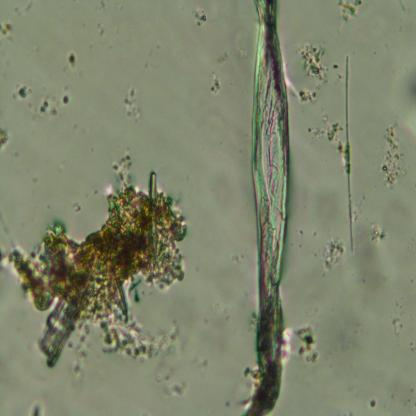Background material: (0, 154, 187, 370), (312, 52, 356, 262), (347, 220, 383, 313), (295, 43, 331, 106), (380, 116, 410, 190), (391, 60, 416, 135), (149, 364, 191, 401), (294, 321, 323, 371), (309, 109, 342, 144), (316, 233, 342, 276), (33, 91, 69, 120), (334, 1, 366, 30), (210, 52, 229, 94), (122, 87, 141, 125), (389, 313, 407, 340), (12, 82, 34, 101), (193, 7, 208, 30), (0, 16, 11, 45), (0, 127, 12, 153), (28, 396, 44, 415), (68, 52, 78, 71), (368, 396, 378, 412), (96, 21, 104, 36)
Cotton: (240, 0, 293, 416)
